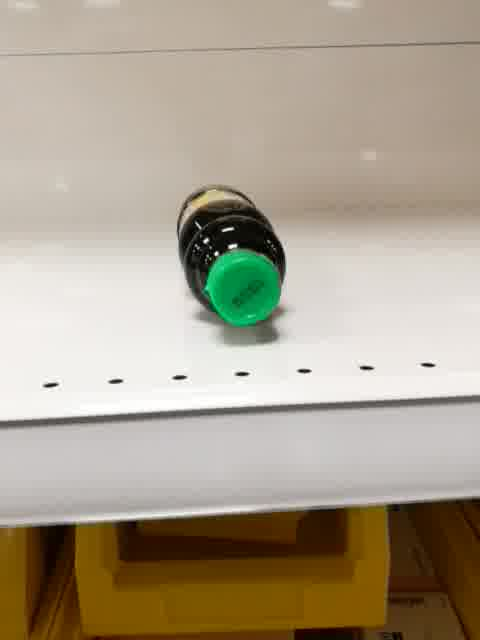cookingoil: (173, 184, 288, 328)
